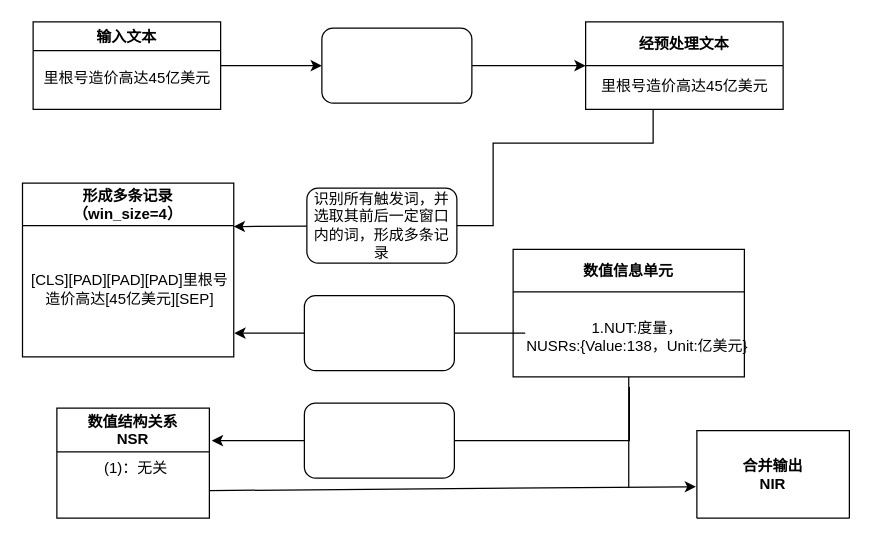
Some shapes in this 871 by 540 pixel diagram are drawn without their labels. The shapes that lost their labels are listed below. From the top down, each one's centre as x and y in pixels, then its label:
At (x=396, y=65): "文本预处理".
At (x=378, y=332): "将各记录分别输入联合学习模型，抽取数值信息单元".
At (x=378, y=440): "基于深度学习模型，判断数值结构之间的关系".
